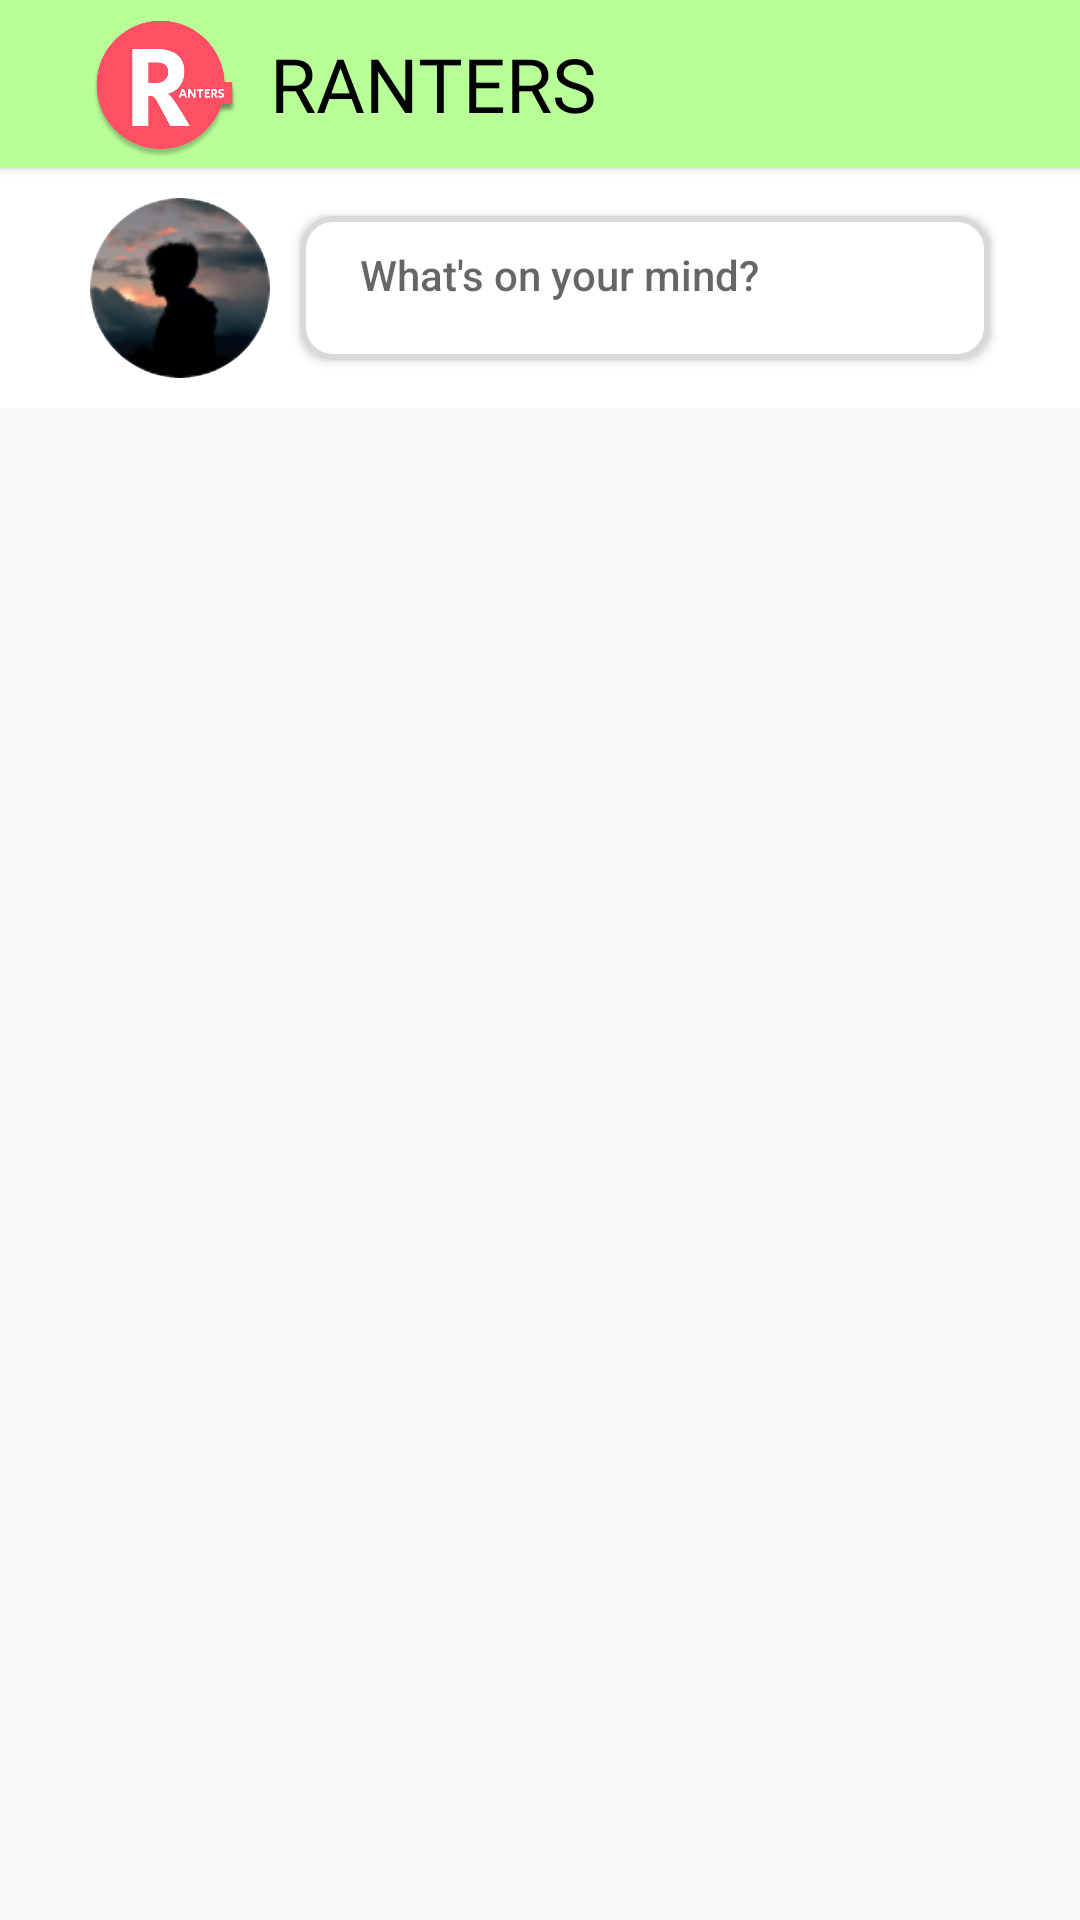

Screen size 1080×1920. Icon name, then its box in pixels as (x1, y1, x2, y2):
profilepicture: (90, 198, 270, 378)
